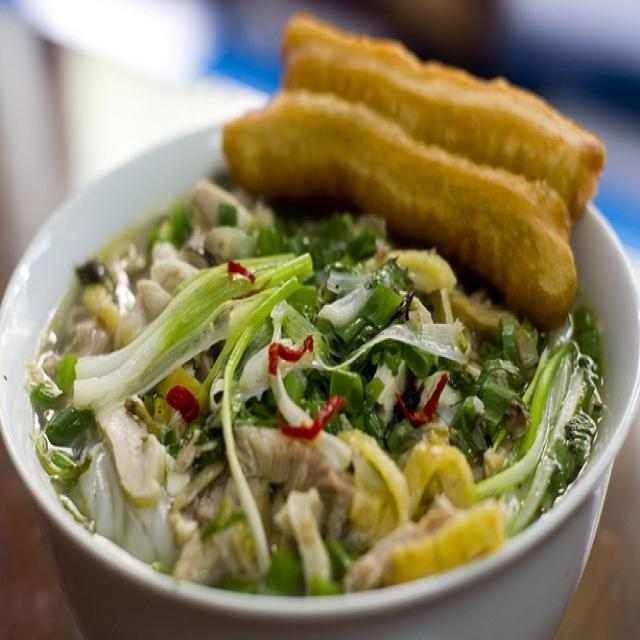面条主食: (16, 24, 619, 604)
